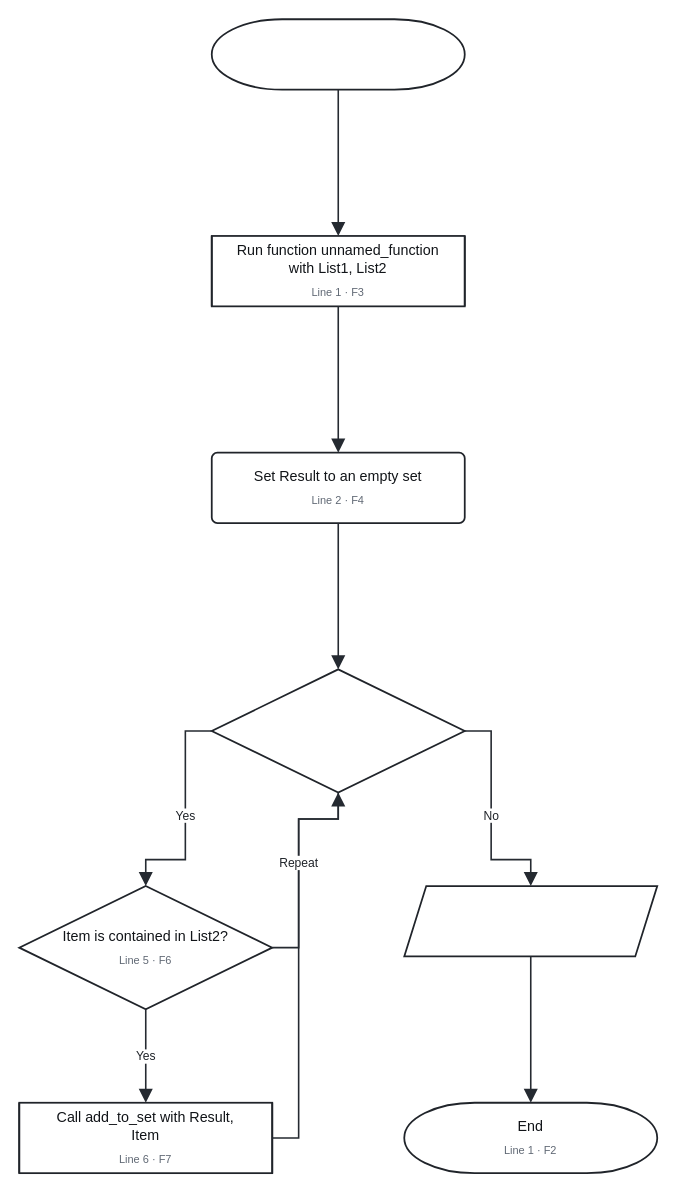
Image size: 678x1194. Some labels were removed from this diagram. Each missing label, with the box of its shape:
Display Result Line 10 · F8: (403, 885, 658, 957)
For each Item in List1 Line 4 · F5: (210, 668, 465, 793)
Start Line 1 · F1: (210, 18, 465, 90)
